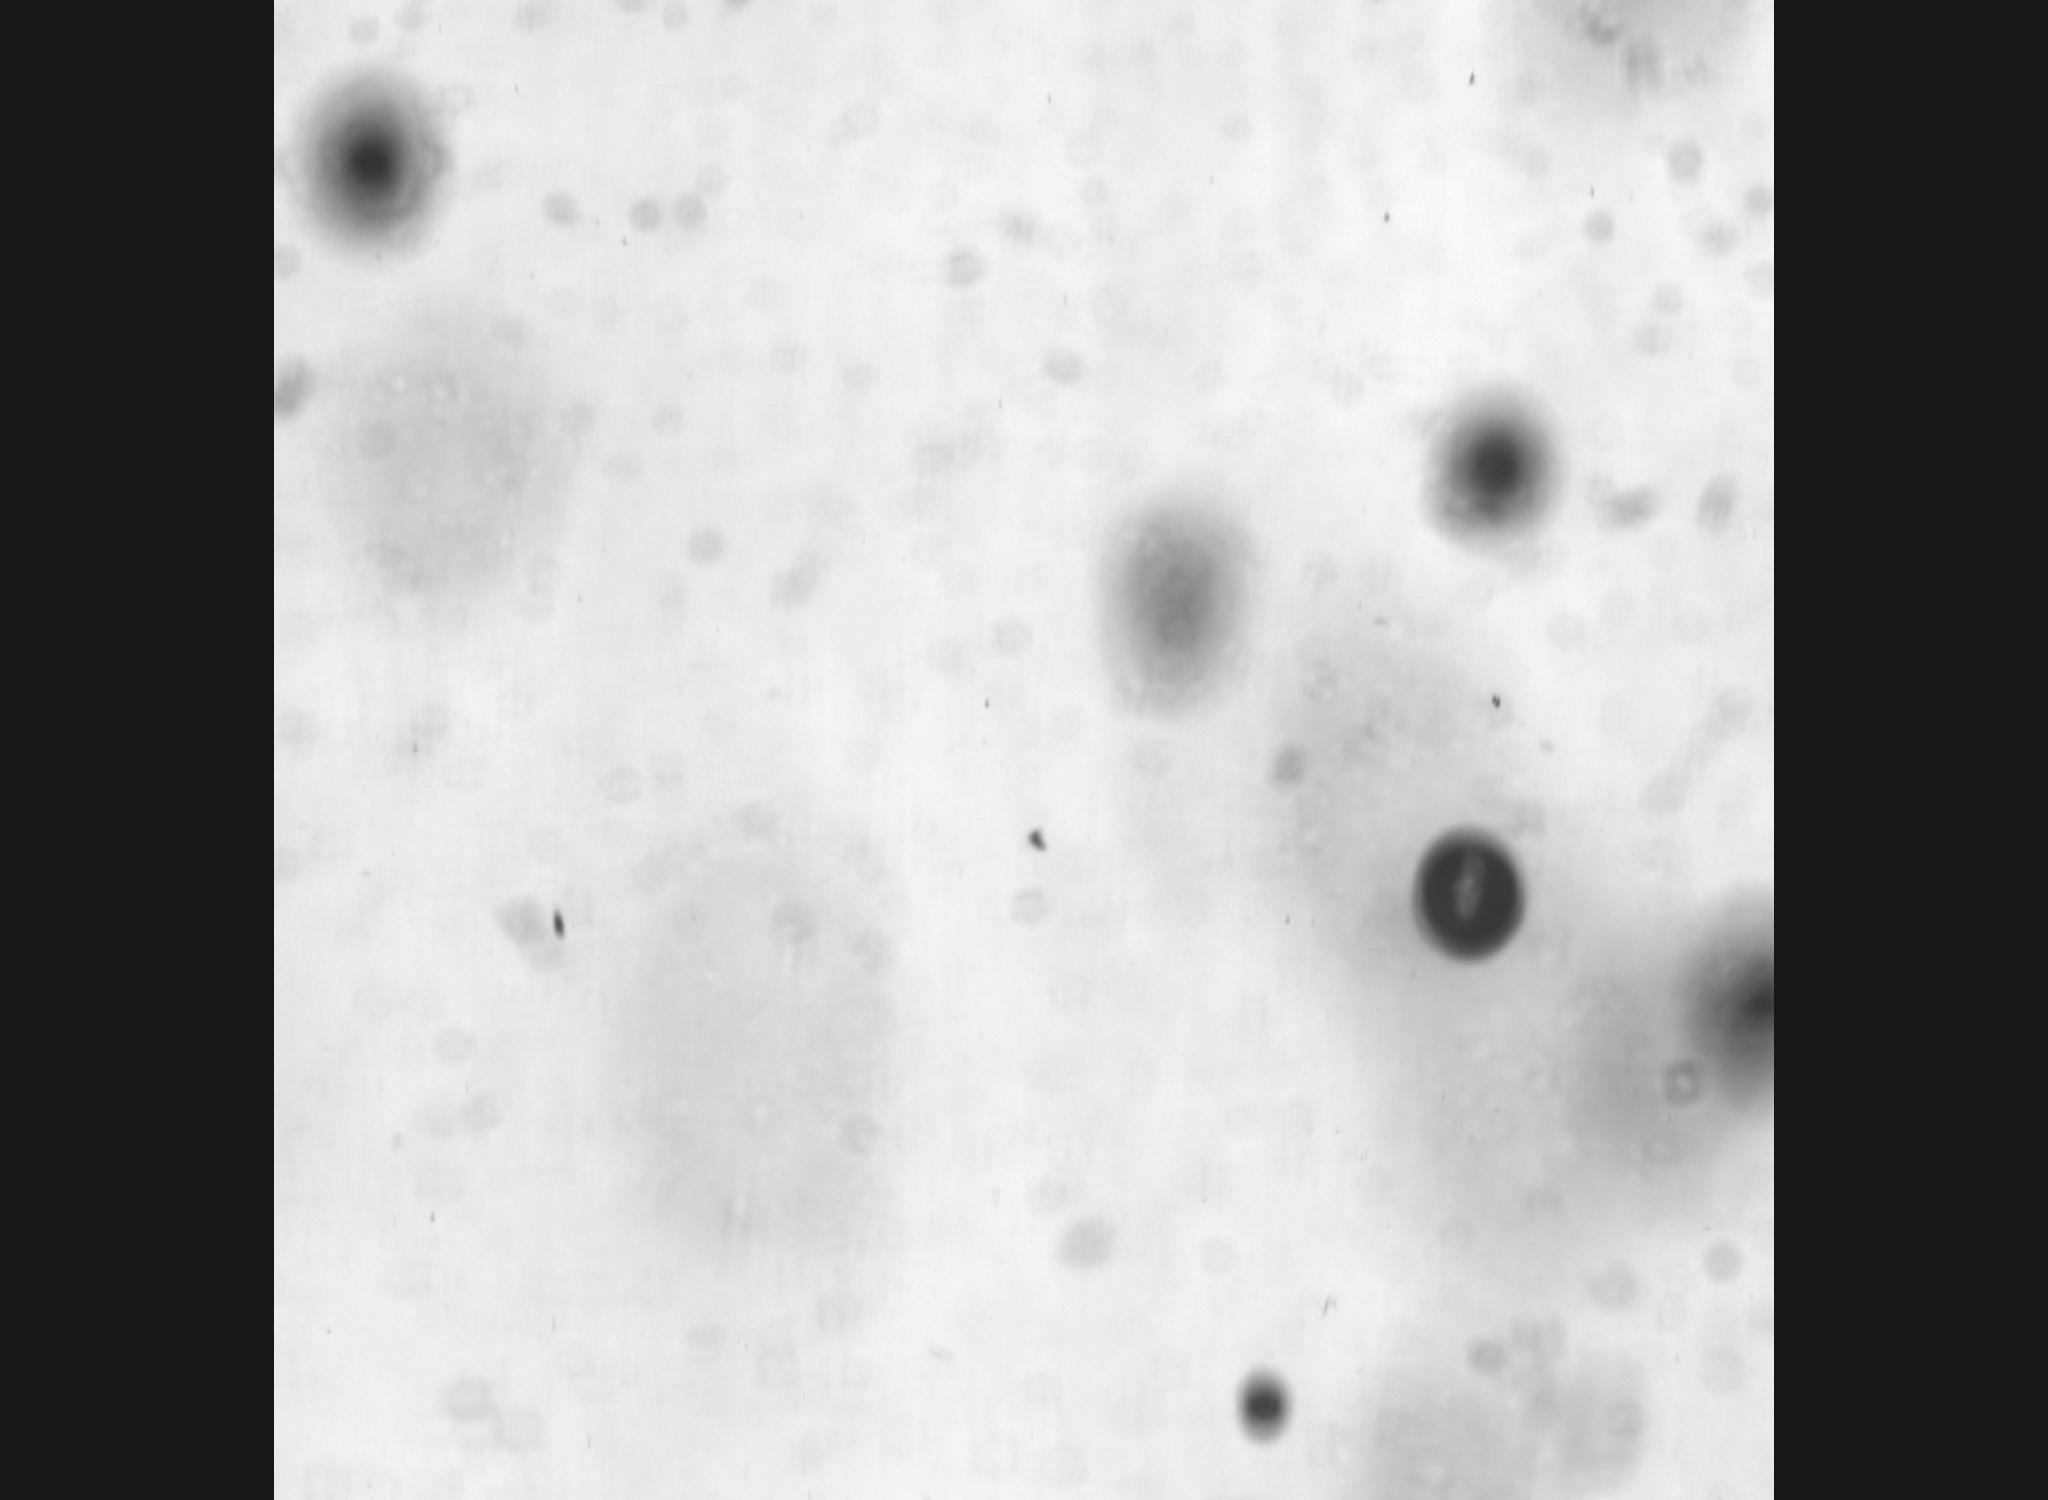bubble: (1418, 834, 1525, 958)
